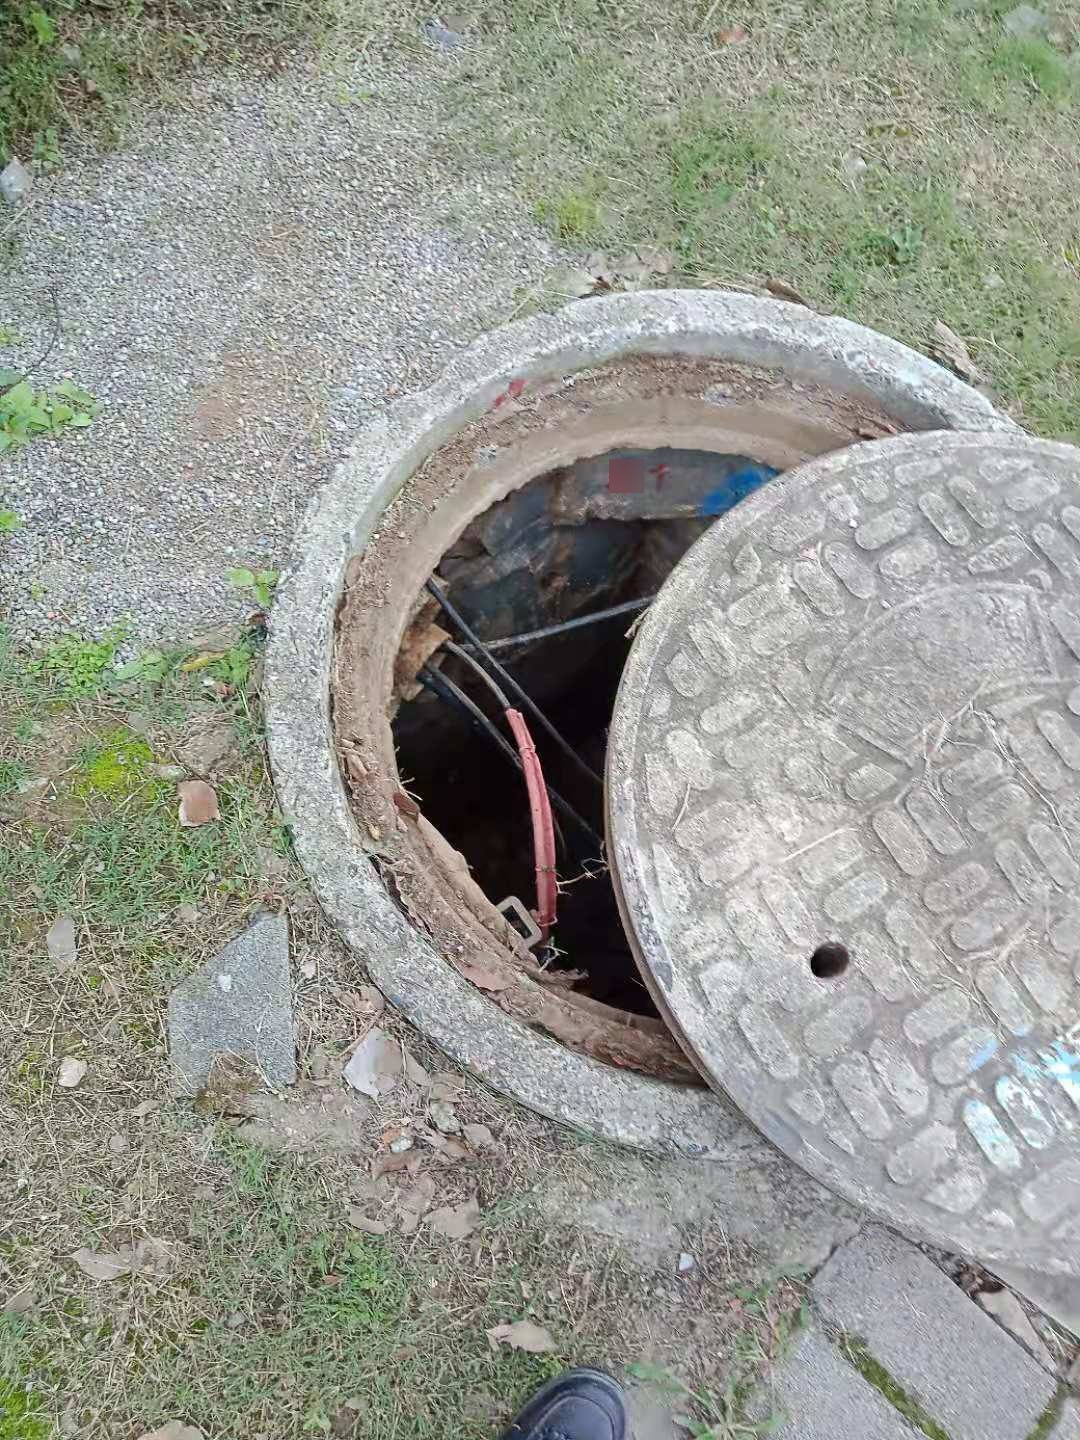uncovered: (255, 283, 1080, 1278)
